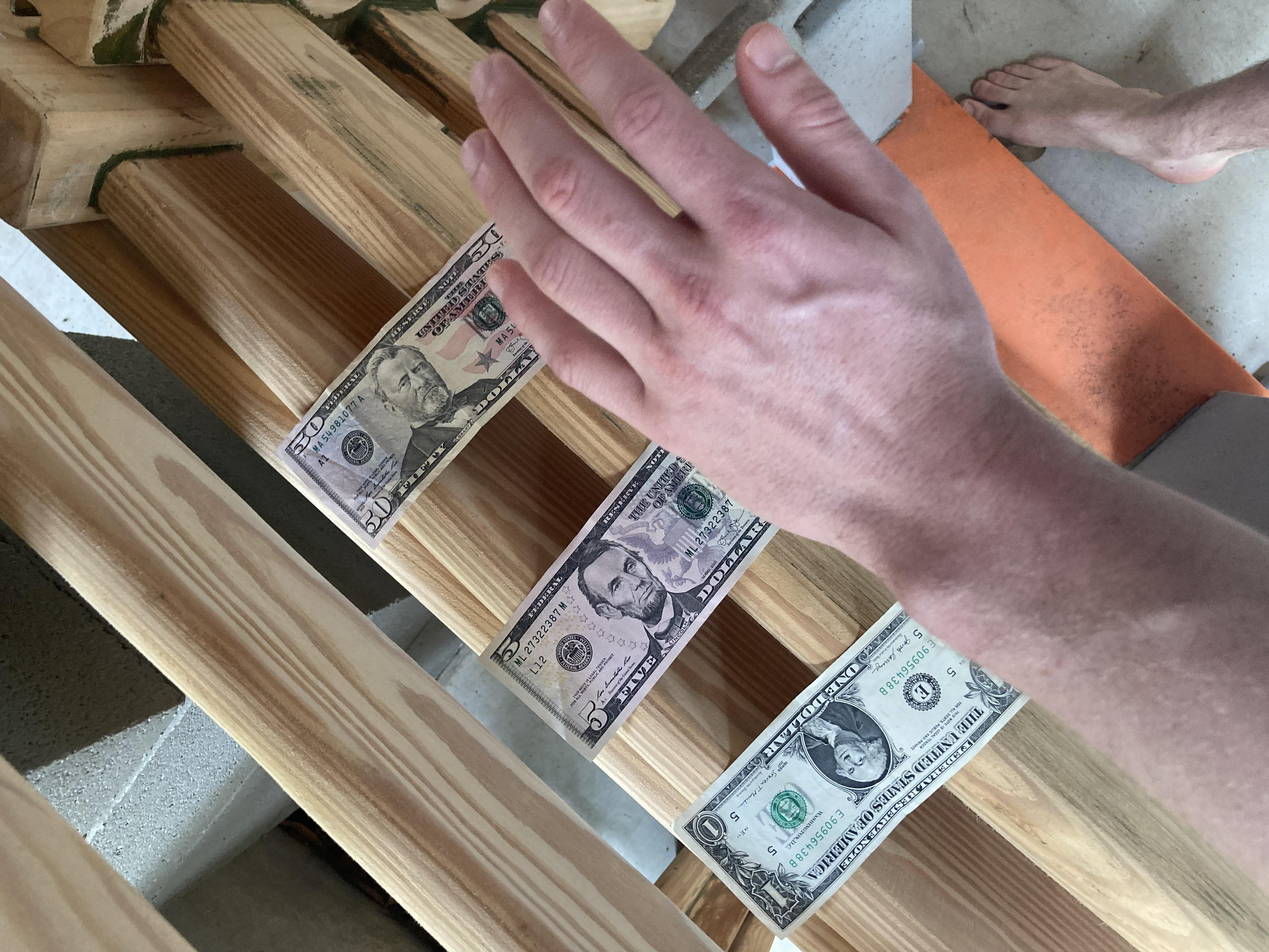fifty-front: (542, 207, 986, 447)
five-front: (253, 357, 690, 588)
one-back: (10, 500, 475, 775)
